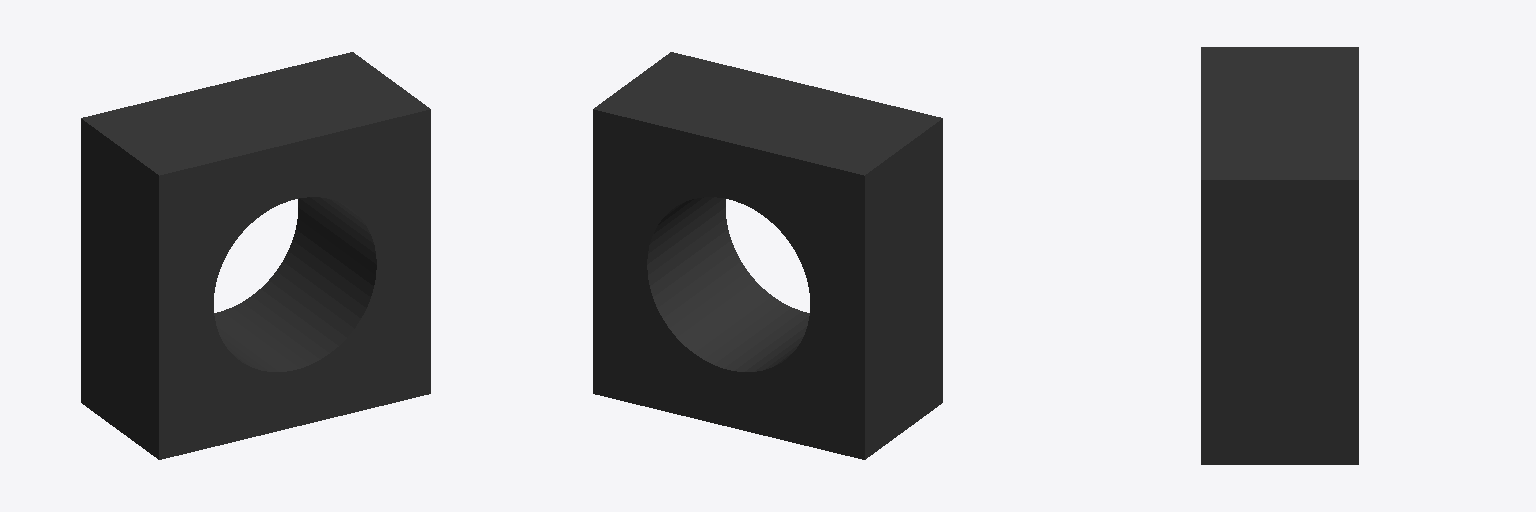
3 views of the same model, side by side, from view 1: azimuth 30°, elevation 25°; view 2: azimuth 150°, elevation 25°; view 3: azimuth 270°, elevation 25° (orthographic).
Parts seen in each view (by area): view 1: Box001; view 2: Box001; view 3: Box001.
Boxes of the visible parts, x1=… form: Box001: x1=81, y1=52, x2=430, y2=459; Box001: x1=593, y1=52, x2=942, y2=459; Box001: x1=1201, y1=47, x2=1358, y2=464.
Size of the model in its own units: 1 by 1 by 0.5.
Materials: 1 (1 with a texture image).